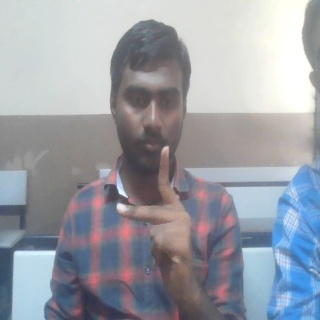Okay: (113, 143, 197, 302)
